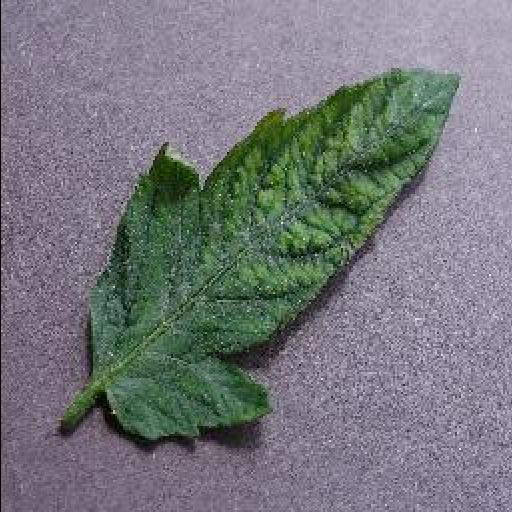Mosaic Virus: (85, 67, 463, 449)
